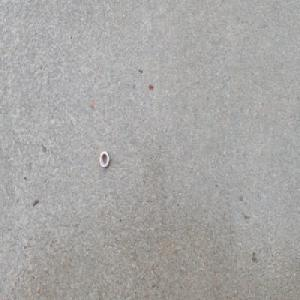Nut: (99, 150, 110, 168)
